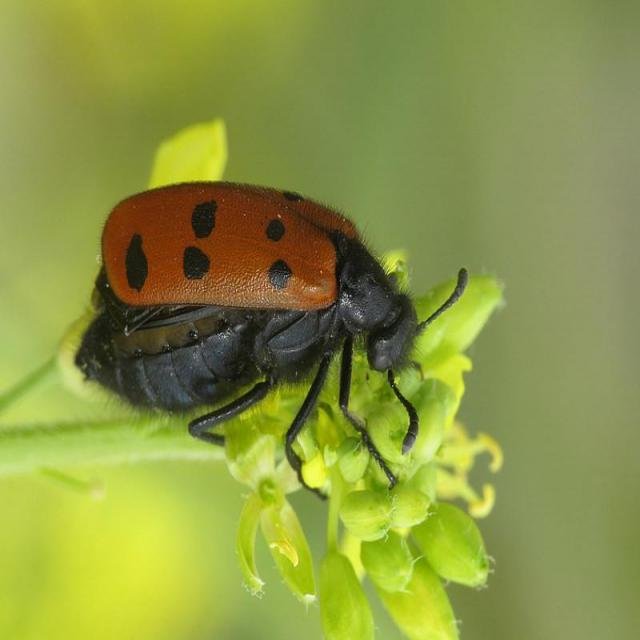BlisterBeetle-Adult-: (75, 160, 478, 513)
